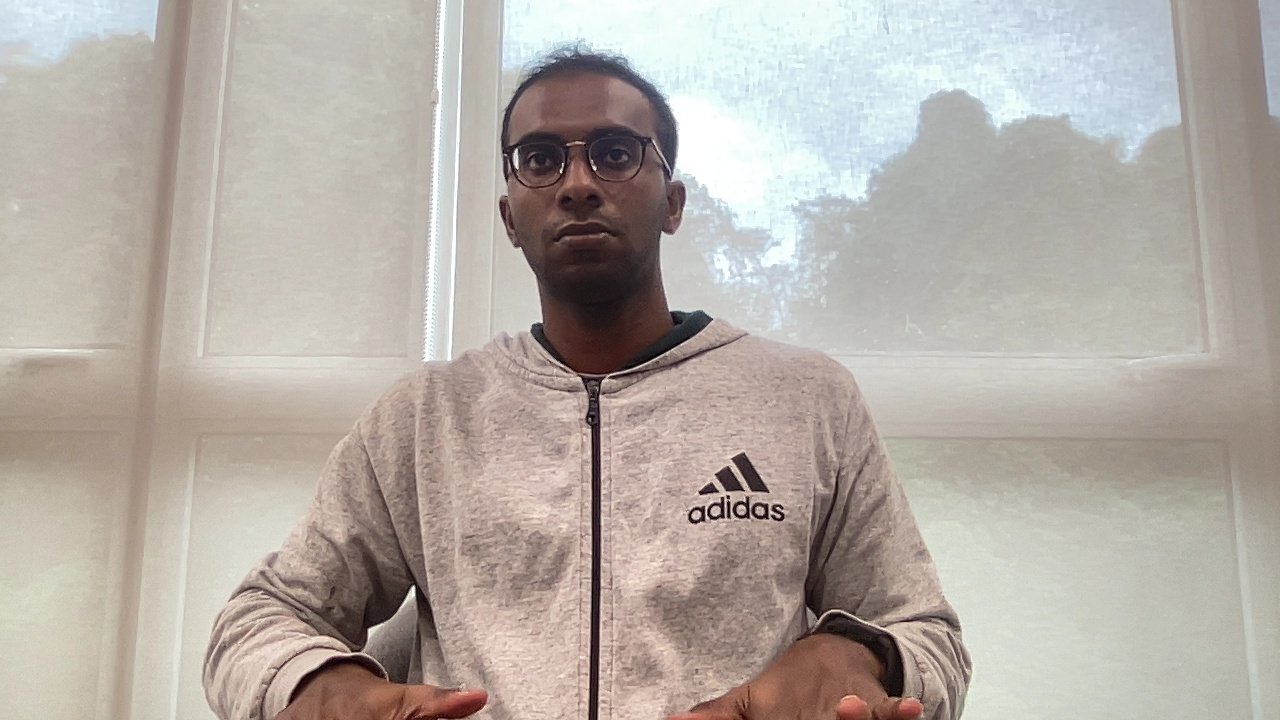finish: (266, 650, 927, 720)
